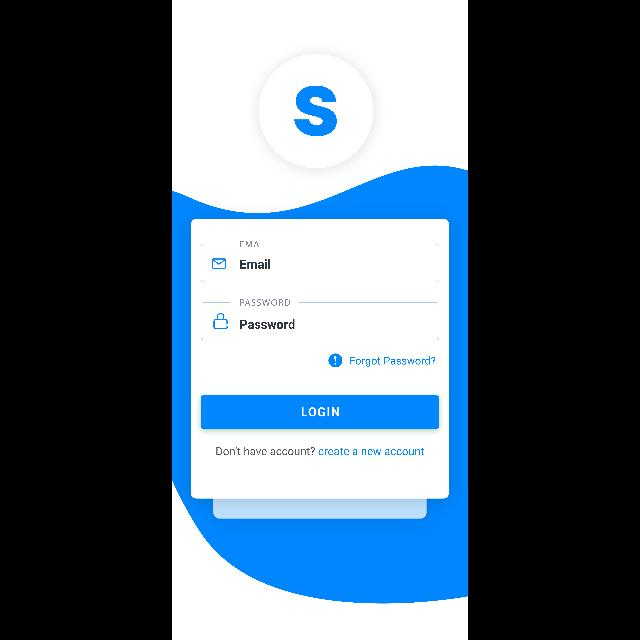icon: (214, 313, 228, 329), (328, 353, 342, 367), (212, 259, 226, 269)
image: (258, 54, 374, 168)
input: (201, 300, 439, 340), (201, 242, 439, 282)
text: (216, 446, 424, 456), (350, 357, 436, 367), (240, 320, 294, 328), (240, 299, 290, 305), (240, 260, 270, 268), (240, 241, 268, 247)
textbutton: (201, 395, 439, 429)
